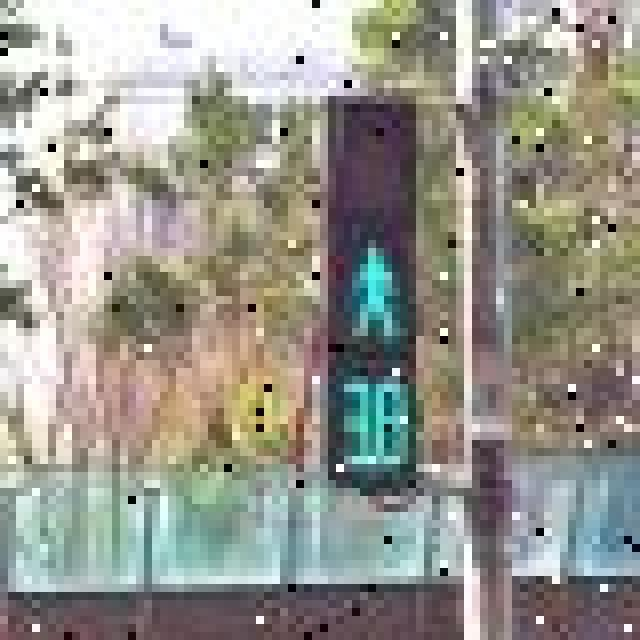greenlight: (312, 88, 424, 360)
